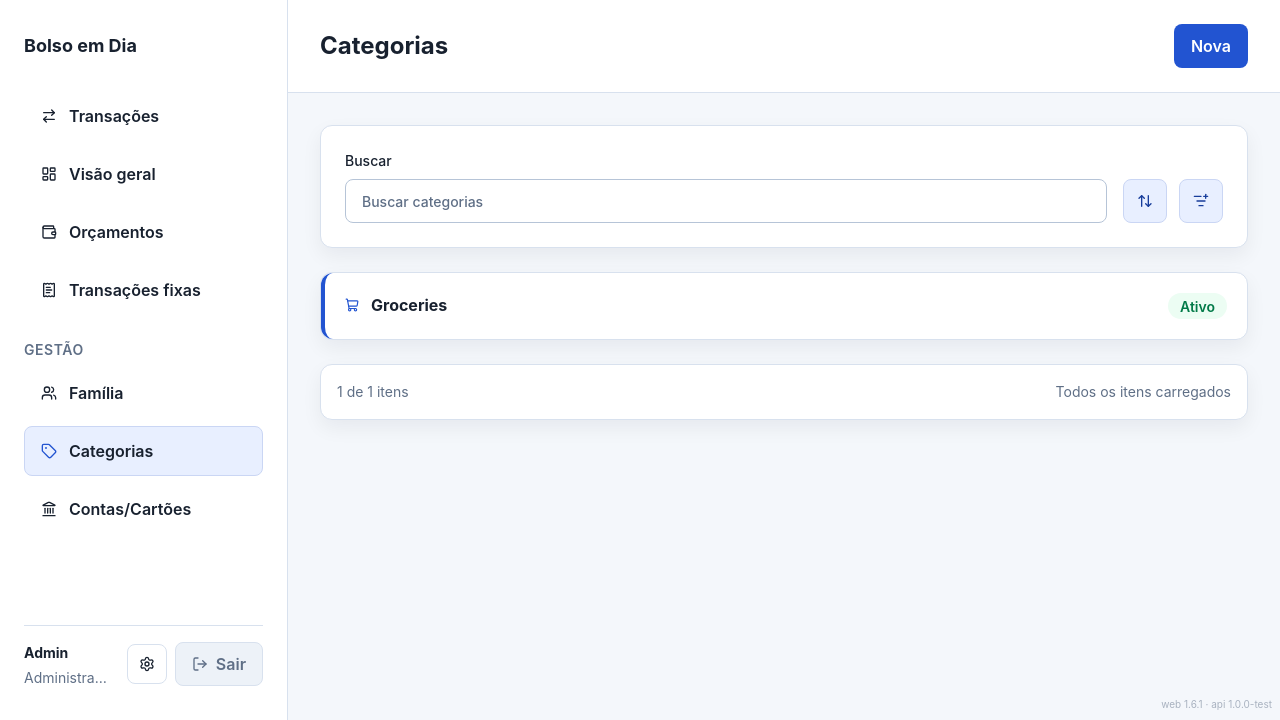
Test case: CategoriesPage › loads categories and validates the create form
Expected: the text "Groceries" is shown, [371,293,447,317]
Step 1. Click the button "Nova" → [1211, 46], box [1174,24,1248,68]
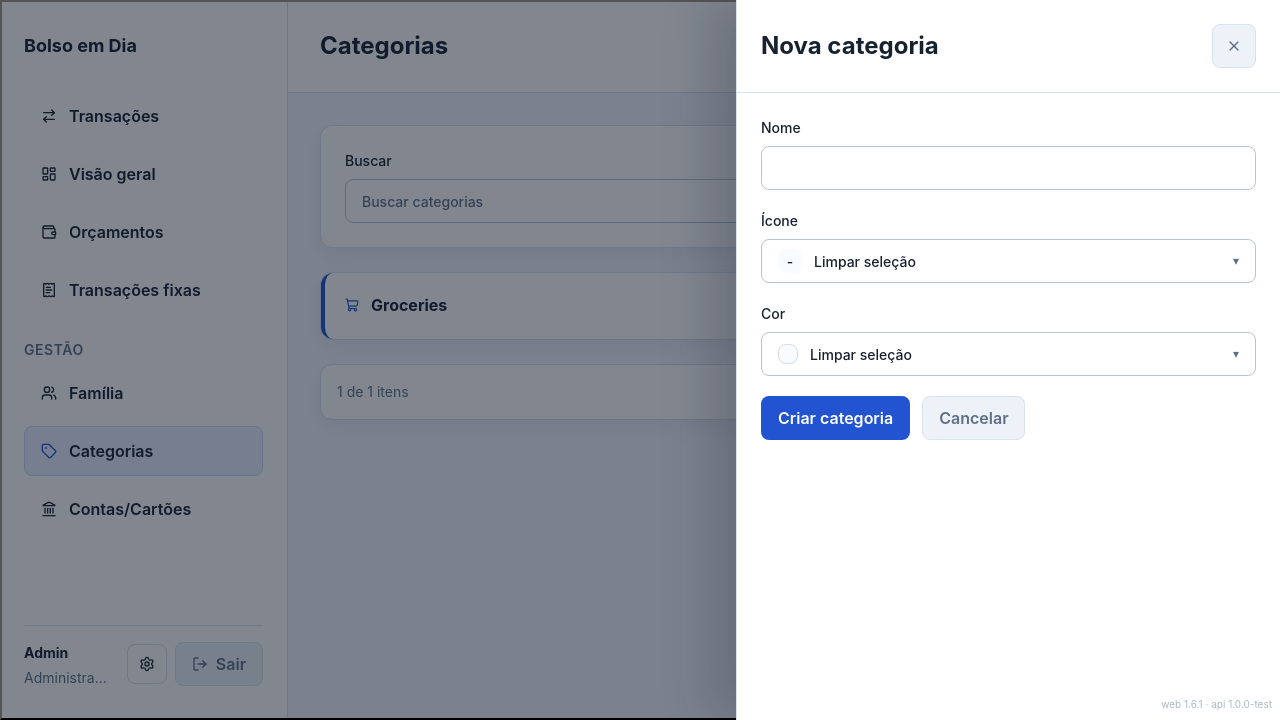
Result: the dialog is shown at [736,0,1279,719]
Step 2. Click the button "Criar categoria" → [836, 418], box [761,396,910,440]
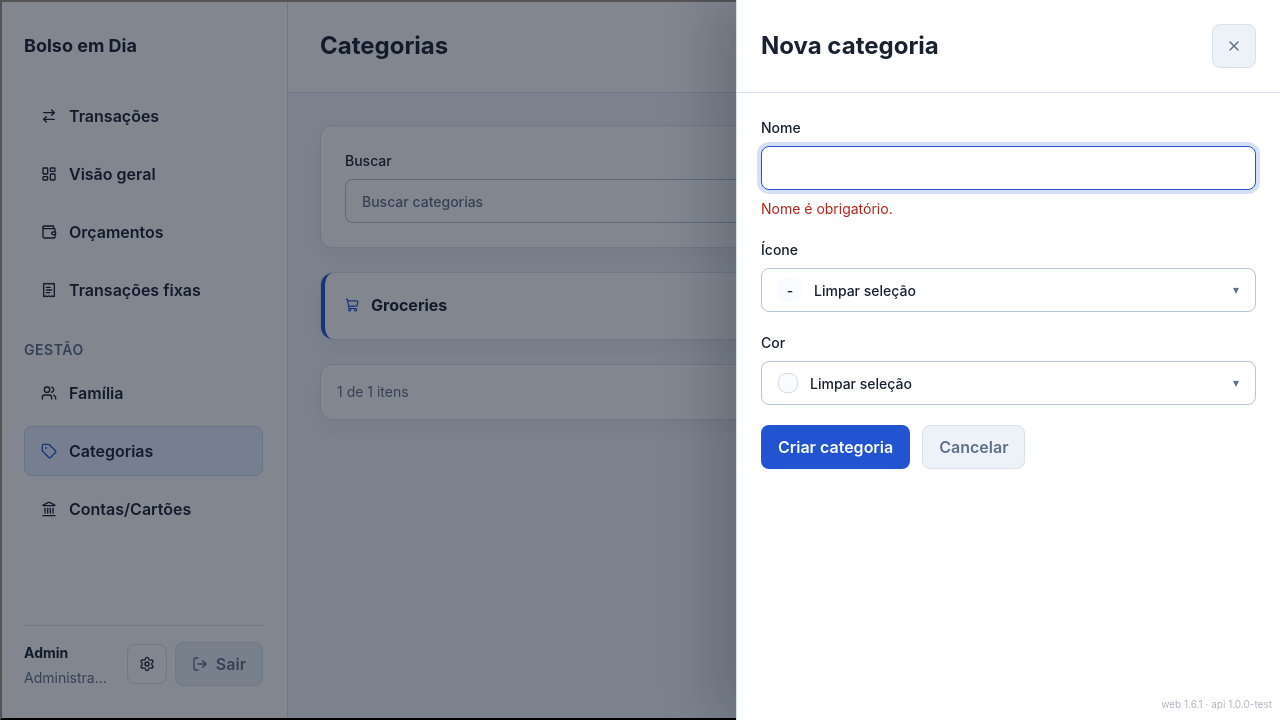
Result: the text "Nome é obrigatório." is shown at [761,200,893,217]
